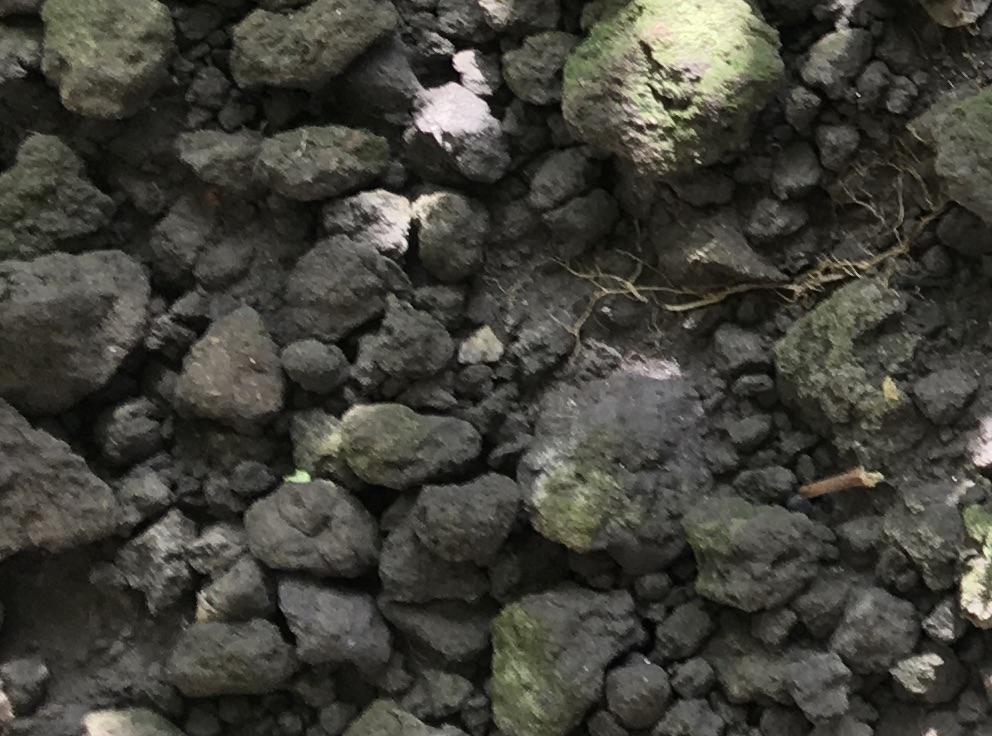block: (564, 1, 790, 179), (1, 255, 153, 419), (485, 585, 641, 736), (678, 492, 837, 620), (31, 1, 177, 119), (231, 1, 401, 90), (174, 302, 285, 430)
